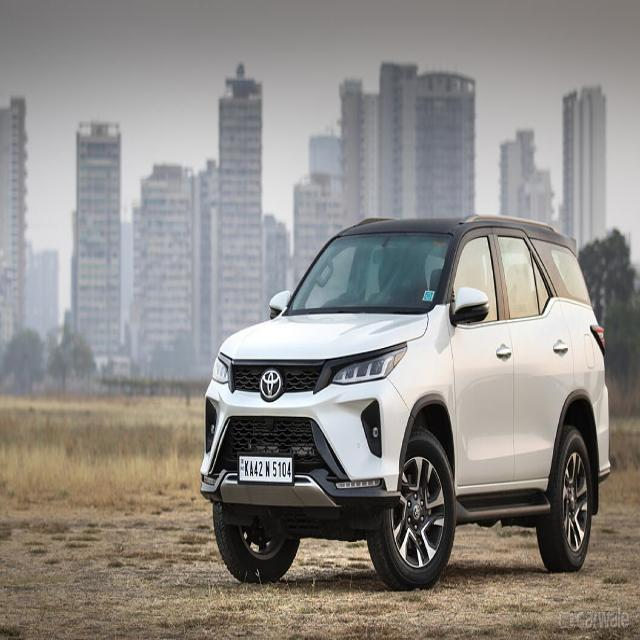light_vehicle: (199, 214, 611, 592)
